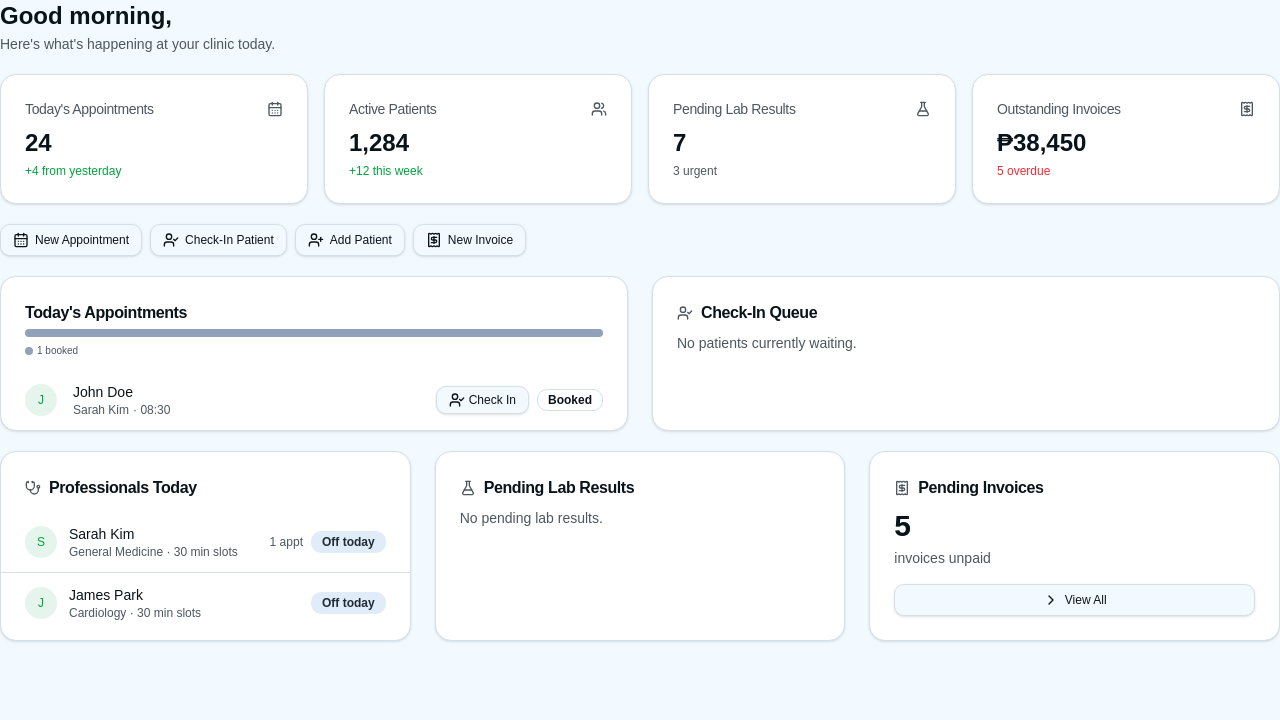
Test: DashboardPage — stat cards and layout (CC-102) › clicking a professional row opens sheet pre-filled with that professional
This screenshot has width=1280, height=720.
What coordinates should you click on to do the following:
click the button with aria-label "book appointment with sarah kim"
I would click on:
 (205, 542)
Its box is top-left (1, 512), bottom-right (410, 573).
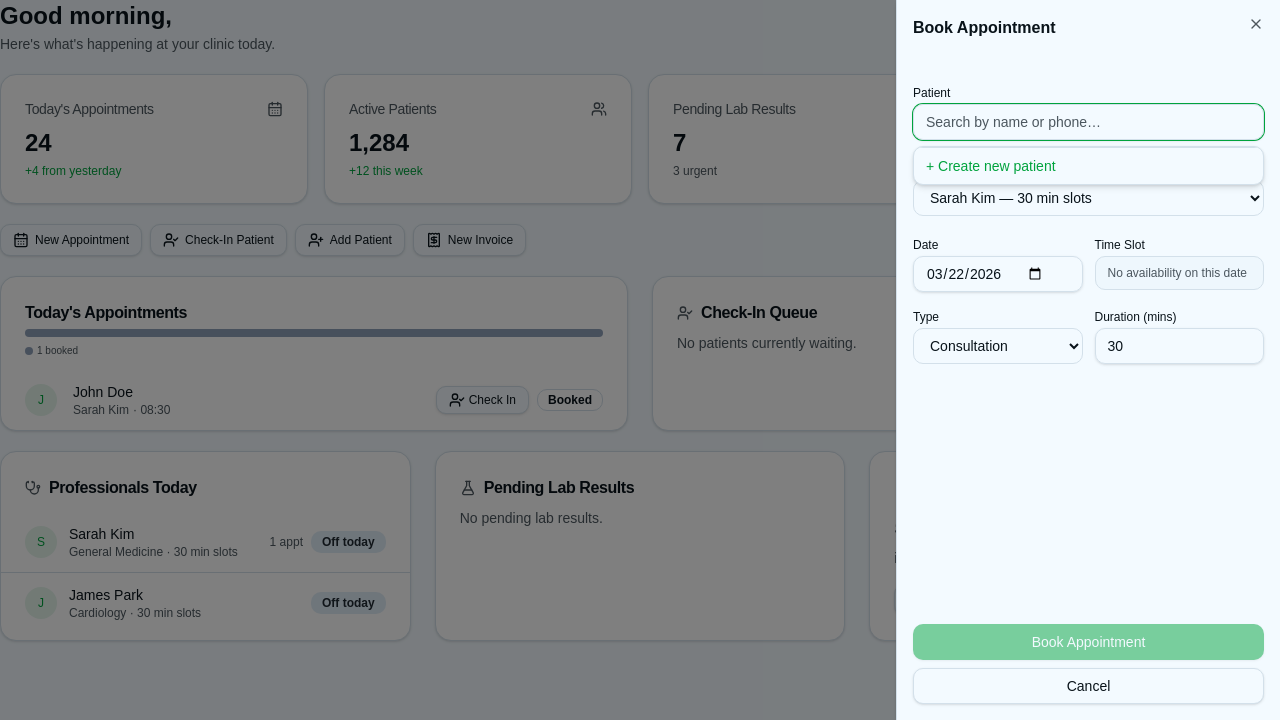
expect the heading "Book Appointment" is shown: met, box top-left (913, 19), bottom-right (1056, 36)
